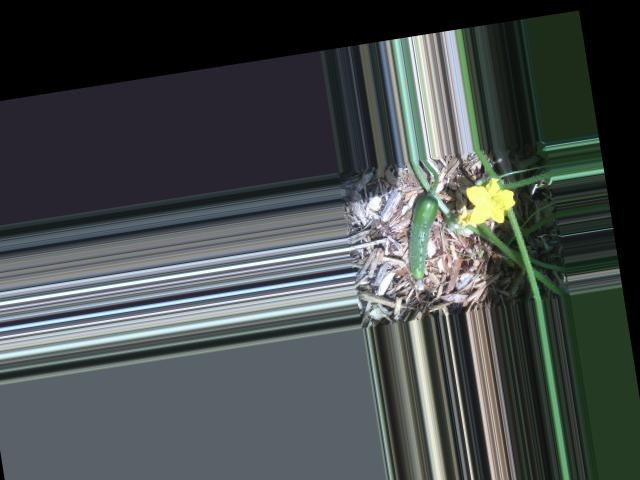cucumber: (397, 192, 451, 289)
